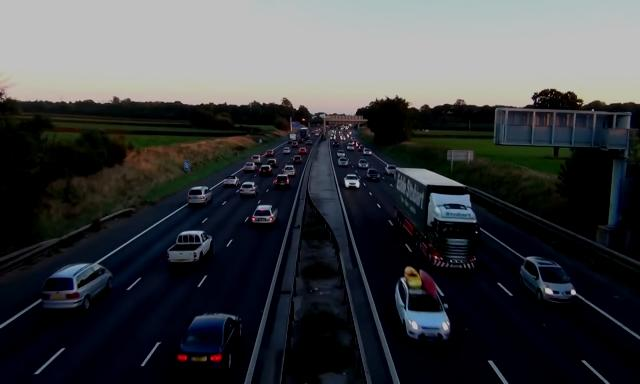caminhaog: (392, 167, 479, 273), (299, 127, 309, 141)
carro: (176, 310, 242, 380), (394, 266, 453, 344), (40, 262, 115, 314), (520, 255, 576, 308), (166, 231, 212, 272), (250, 204, 279, 226), (186, 185, 213, 206), (240, 181, 258, 198), (344, 174, 362, 190), (276, 174, 290, 190), (223, 176, 240, 188), (366, 168, 380, 182), (384, 164, 398, 176), (283, 165, 296, 177), (259, 165, 273, 176), (243, 162, 257, 173), (358, 159, 369, 169), (266, 159, 278, 168), (338, 157, 348, 167), (252, 155, 261, 164), (293, 155, 302, 164), (358, 144, 366, 152), (337, 150, 346, 157), (363, 148, 372, 155), (299, 147, 307, 154), (347, 143, 354, 151), (266, 150, 274, 156), (282, 148, 290, 154), (333, 141, 340, 147), (292, 142, 298, 148), (306, 140, 312, 146), (330, 136, 336, 141), (352, 141, 358, 145), (341, 137, 346, 141)
van: (287, 133, 298, 144)
